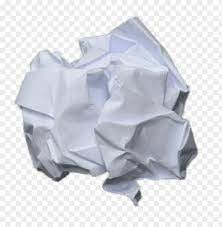crumpled paper: (18, 14, 199, 213)
